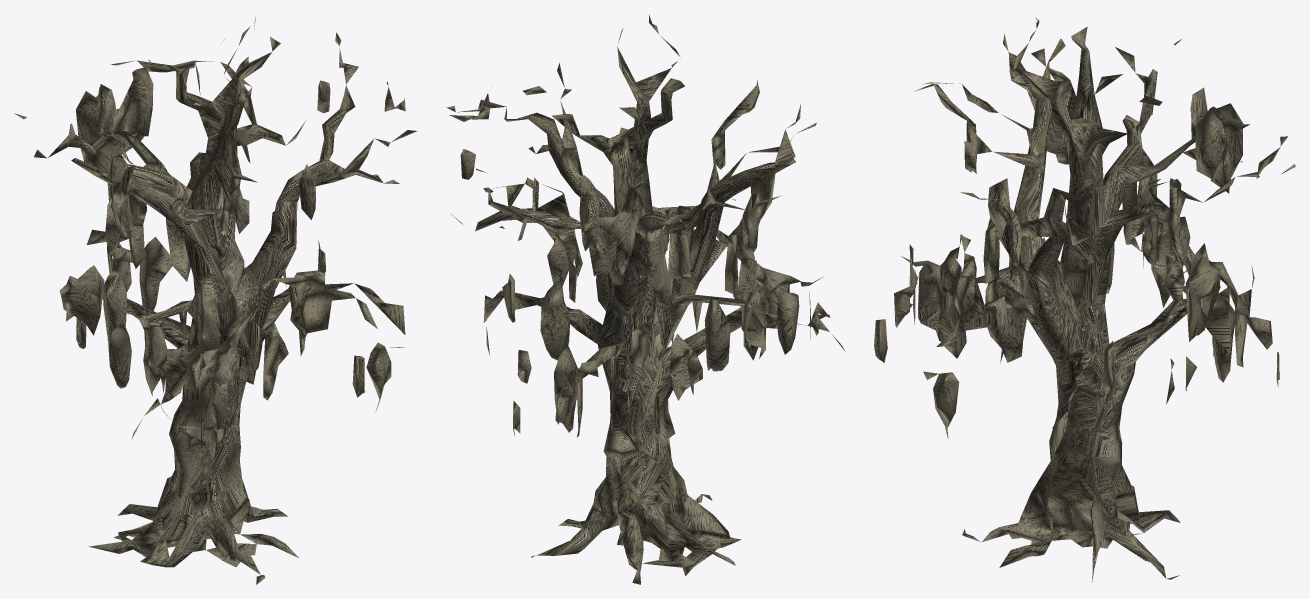
Rendered from tree-a.glb.
3 renders of one model, left to right at view 1: azimuth 30°, elevation 25°; view 2: azimuth 150°, elevation 25°; view 3: azimuth 270°, elevation 25°, orthographic. The views are drawn at different scales.
Size of the model in its own units: 1.24 by 1.74 by 1.24.
Materials: 1 (1 with a texture image).
